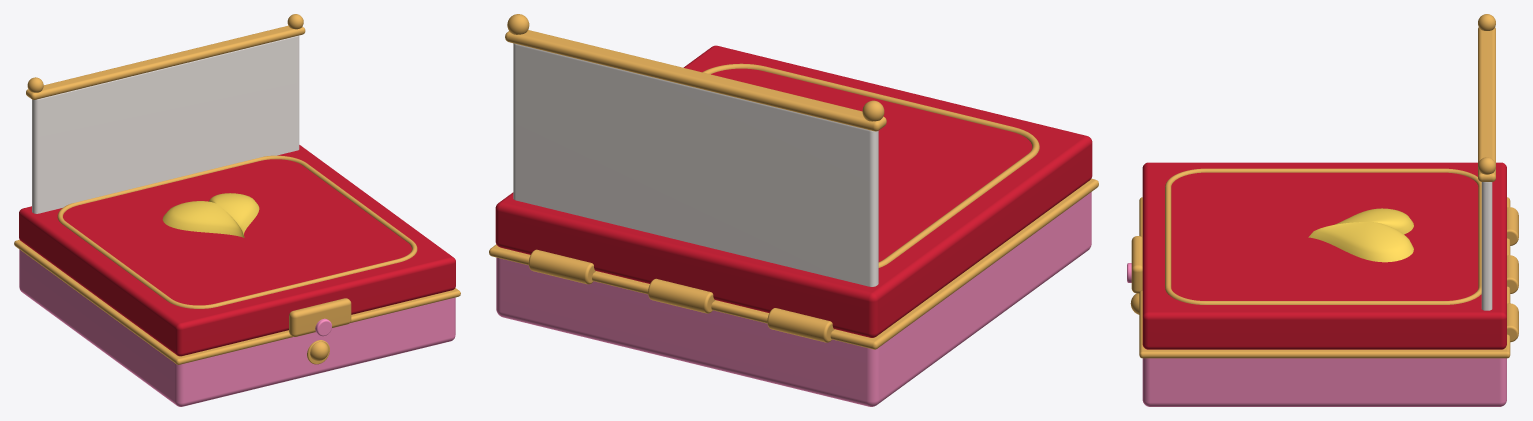
Rendered from compact-crisp.glb.
The picture shows the model from 3 angles, left to right: view 1: azimuth 30°, elevation 25°; view 2: azimuth 150°, elevation 25°; view 3: azimuth 270°, elevation 25°; orthographic projection. The views are drawn at different scales.
Visible parts, largest first — view 1: Lid, Wall, Base, Heart, Clasp; view 2: Wall, Lid, Base; view 3: Lid, Base, Wall, Heart, Clasp.
Part boxes in pixels (x1,y1,x2,y2): Lid: (19,145,455,356); Wall: (26,14,305,213); Base: (14,240,460,406); Heart: (162,193,259,237); Clasp: (289,298,351,336); Wall: (505,14,886,286); Lid: (495,45,1092,337); Base: (489,178,1098,406); Lid: (1142,162,1518,349); Base: (1139,197,1518,406); Wall: (1478,14,1495,310); Heart: (1308,208,1413,262); Clasp: (1127,236,1142,293).
Bounding box in the file's own units: 4.07 × 3.08 × 4.3.
